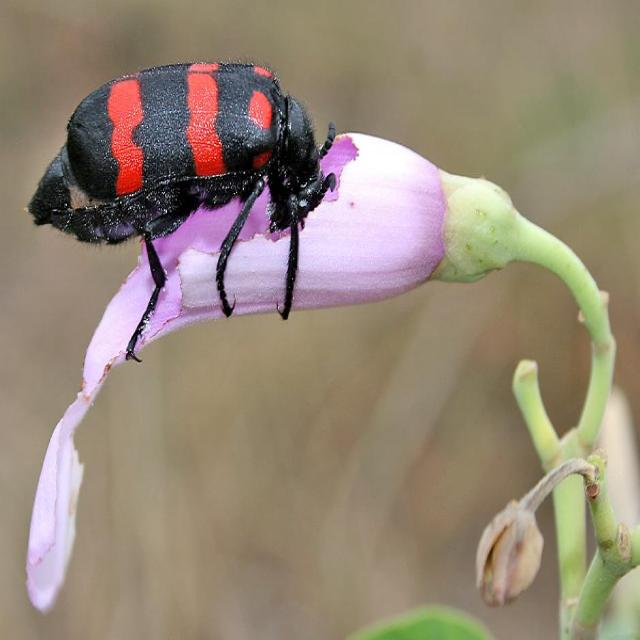BlisterBeetle-Adult-: (20, 58, 341, 348)
